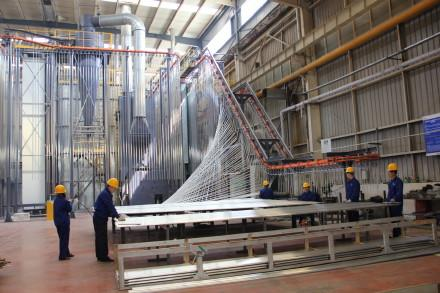helmet: (107, 178, 119, 191), (55, 184, 65, 196), (388, 163, 398, 174), (302, 183, 311, 189), (348, 168, 354, 175), (265, 181, 271, 187)
